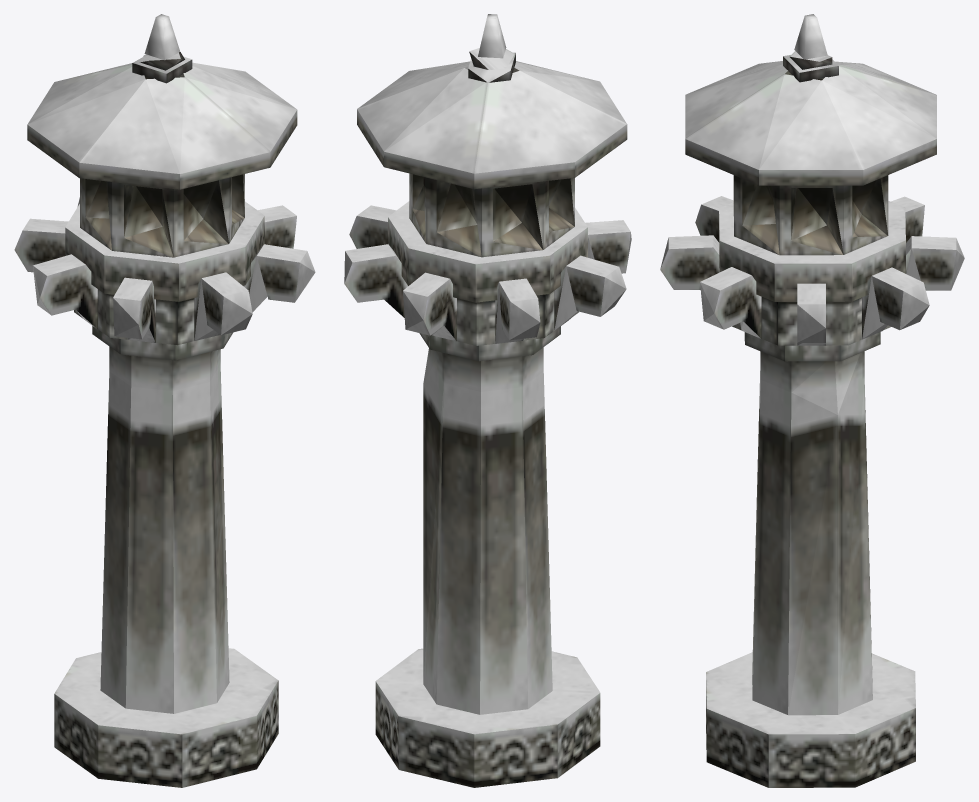
Rendered from nsm-018-stonelight-1_lod_01.fbx.
3 views of the same model, side by side, from view 1: azimuth 30°, elevation 25°; view 2: azimuth 150°, elevation 25°; view 3: azimuth 270°, elevation 25° (orthographic).
Visible parts, largest first — view 1: Cone21; view 2: Cone21; view 3: Cone21.
Part boxes in pixels (x1,y1,x2,y2): Cone21: (14,14,315,787); Cone21: (344,14,631,787); Cone21: (660,14,964,787).
Size of the model in its own units: 1.87 by 4.91 by 1.87.
